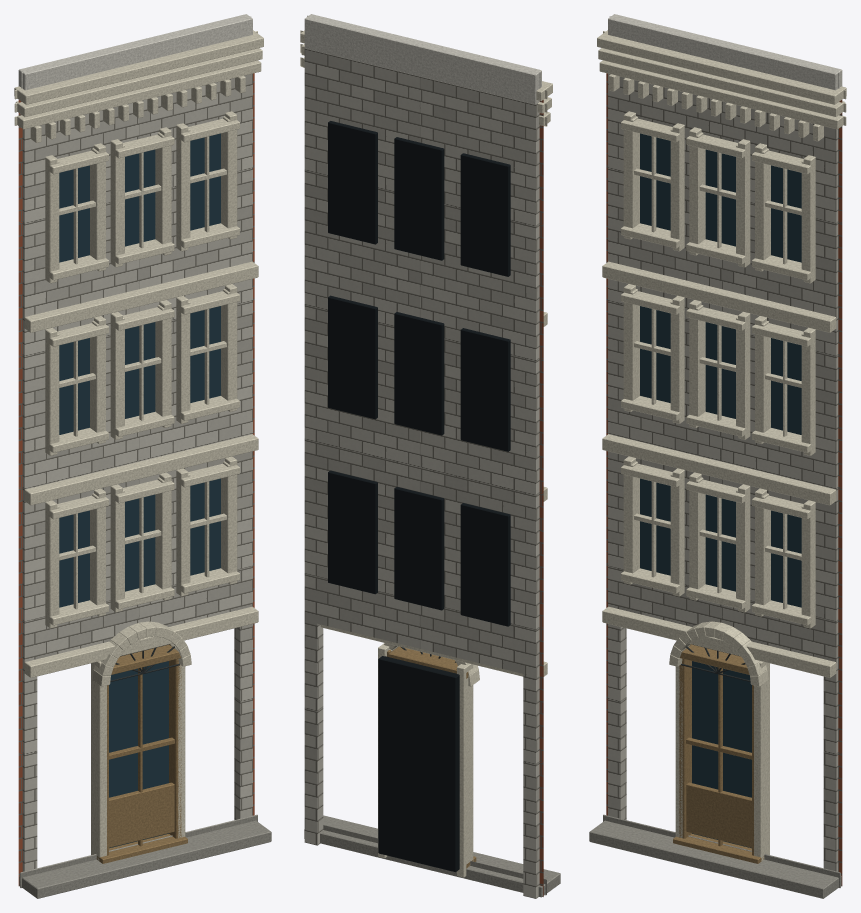
The model's file is OFFC15_lod1.glb.
3 renders of one model, left to right at view 1: azimuth 30°, elevation 25°; view 2: azimuth 150°, elevation 25°; view 3: azimuth 330°, elevation 25°, orthographic.
Visible parts, largest first — view 1: OFFC15_FRONT_LOD1; view 2: OFFC15_FRONT_LOD1; view 3: OFFC15_FRONT_LOD1.
Part boxes in pixels (x1=…): OFFC15_FRONT_LOD1: x1=14, y1=14, x2=271, y2=898; OFFC15_FRONT_LOD1: x1=300, y1=14, x2=560, y2=898; OFFC15_FRONT_LOD1: x1=589, y1=14, x2=846, y2=898.
Size of the model in its own units: 3.84 by 12.26 by 0.68.
10 materials, 8 textured.
